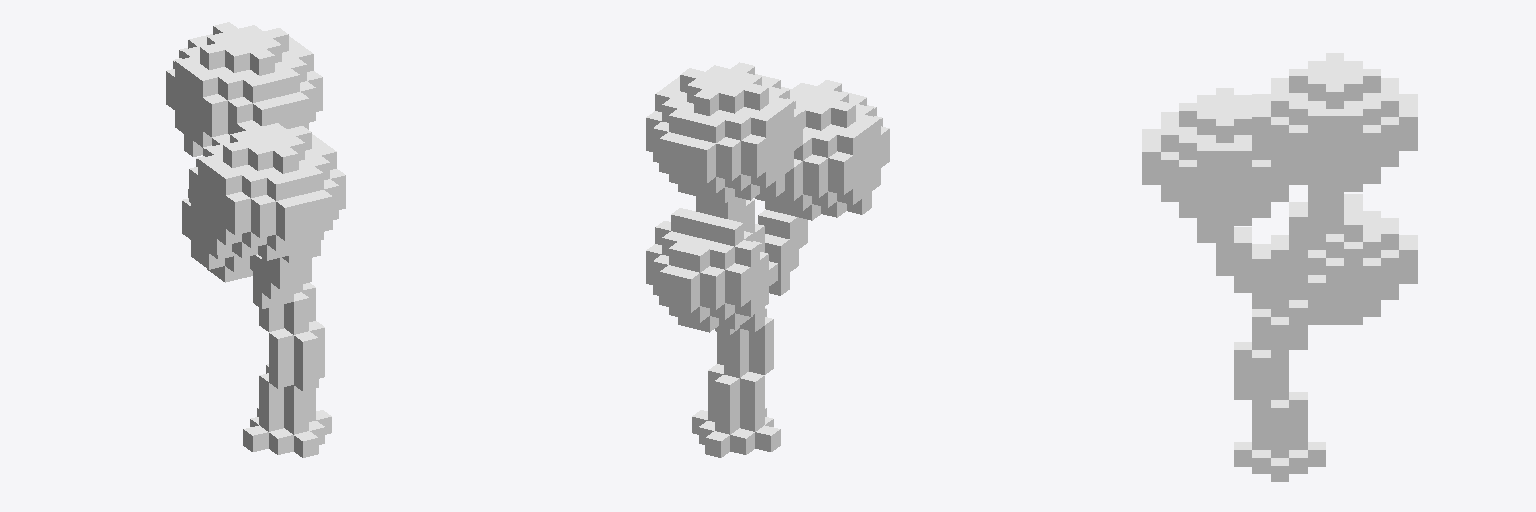
Rendered from Cubeland-7.obj.
3 views of the same model, side by side, from view 1: azimuth 30°, elevation 25°; view 2: azimuth 150°, elevation 25°; view 3: azimuth 270°, elevation 25° (orthographic).
Parts seen in each view (by area): view 1: object 1; view 2: object 1; view 3: object 1.
Boxes of the visible parts, x1=… form: object 1: x1=166, y1=22, x2=345, y2=457; object 1: x1=646, y1=62, x2=889, y2=457; object 1: x1=1142, y1=53, x2=1417, y2=481.
Size of the model in its own units: 3.6 by 9.2 by 6.